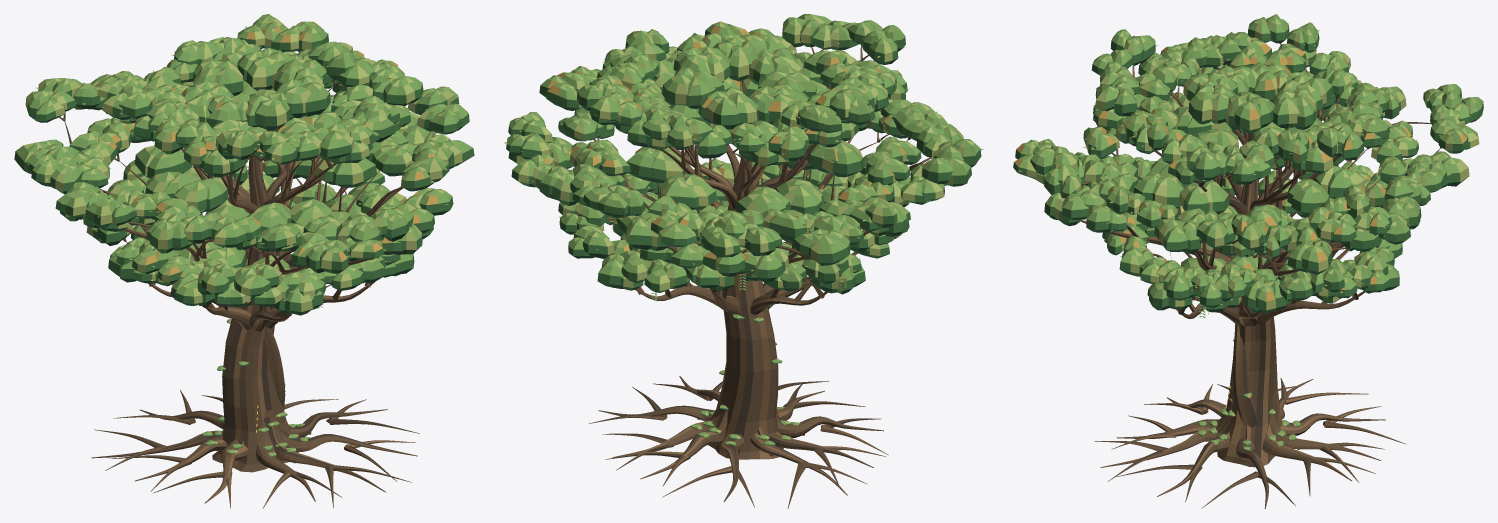
The model's file is Yggdrasil_LOD0.fbx.
3 renders of one model, left to right at view 1: azimuth 30°, elevation 25°; view 2: azimuth 150°, elevation 25°; view 3: azimuth 270°, elevation 25°, orthographic. The views are drawn at different scales.
Visible parts, largest first — view 1: YGG_Foliage_Tier_2_LOD0, YGG_Foliage_Tier_3_LOD0, YGG_Foliage_Tier_1_LOD0, YGG_Foliage_Tier_4_LOD0, YGG_AncientTrunk_LOD0, YGG_CrownBranches_Tier_2_LOD0, YGG_CrownBranches_Tier_3_LOD0, YGG_CrownBranches_Tier_1_LOD0, YGG_Root_09_LOD0, YGG_Root_10_LOD0, YGG_Root_08_LOD0, YGG_Root_01_LOD0 (+6 smaller); view 2: YGG_Foliage_Tier_2_LOD0, YGG_Foliage_Tier_3_LOD0, YGG_Foliage_Tier_1_LOD0, YGG_Foliage_Tier_4_LOD0, YGG_AncientTrunk_LOD0, YGG_CrownBranches_Tier_3_LOD0, YGG_CrownBranches_Tier_1_LOD0, YGG_Root_03_LOD0, YGG_Root_07_LOD0, YGG_CrownBranches_Tier_2_LOD0, YGG_Root_05_LOD0, YGG_Root_06_LOD0 (+5 smaller); view 3: YGG_Foliage_Tier_2_LOD0, YGG_Foliage_Tier_3_LOD0, YGG_Foliage_Tier_1_LOD0, YGG_Foliage_Tier_4_LOD0, YGG_AncientTrunk_LOD0, YGG_CrownBranches_Tier_3_LOD0, YGG_CrownBranches_Tier_2_LOD0, YGG_CrownBranches_Tier_1_LOD0, YGG_IntertwinedLeaders_LOD0, YGG_Root_09_LOD0, YGG_Root_02_LOD0, YGG_Root_04_LOD0 (+7 smaller).
Part boxes in pixels (x1,y1,x2,y2): YGG_Foliage_Tier_2_LOD0: [14, 50, 474, 273]; YGG_Foliage_Tier_3_LOD0: [97, 14, 423, 177]; YGG_Foliage_Tier_1_LOD0: [86, 160, 433, 315]; YGG_Foliage_Tier_4_LOD0: [181, 48, 330, 130]; YGG_AncientTrunk_LOD0: [212, 157, 298, 472]; YGG_CrownBranches_Tier_2_LOD0: [59, 94, 431, 274]; YGG_CrownBranches_Tier_3_LOD0: [181, 79, 385, 214]; YGG_CrownBranches_Tier_1_LOD0: [123, 178, 375, 331]; YGG_Root_09_LOD0: [263, 408, 411, 508]; YGG_Root_10_LOD0: [280, 429, 417, 481]; YGG_Root_08_LOD0: [256, 421, 342, 508]; YGG_Root_01_LOD0: [288, 399, 419, 438]; YGG_Foliage_Tier_2_LOD0: [506, 57, 981, 265]; YGG_Foliage_Tier_3_LOD0: [576, 14, 905, 166]; YGG_Foliage_Tier_1_LOD0: [558, 152, 910, 294]; YGG_Foliage_Tier_4_LOD0: [662, 37, 816, 129]; YGG_AncientTrunk_LOD0: [708, 156, 783, 459]; YGG_CrownBranches_Tier_3_LOD0: [660, 44, 868, 209]; YGG_CrownBranches_Tier_1_LOD0: [607, 218, 859, 314]; YGG_Root_03_LOD0: [605, 409, 727, 486]; YGG_Root_07_LOD0: [777, 416, 888, 455]; YGG_CrownBranches_Tier_2_LOD0: [555, 132, 931, 263]; YGG_Root_05_LOD0: [750, 427, 867, 508]; YGG_Root_06_LOD0: [767, 431, 886, 484]; YGG_Foliage_Tier_2_LOD0: [1013, 42, 1483, 274]; YGG_Foliage_Tier_3_LOD0: [1091, 14, 1389, 184]; YGG_Foliage_Tier_1_LOD0: [1102, 157, 1402, 313]; YGG_Foliage_Tier_4_LOD0: [1183, 62, 1333, 133]; YGG_AncientTrunk_LOD0: [1217, 133, 1282, 467]; YGG_CrownBranches_Tier_3_LOD0: [1132, 43, 1344, 215]; YGG_CrownBranches_Tier_2_LOD0: [1081, 122, 1441, 275]; YGG_CrownBranches_Tier_1_LOD0: [1152, 212, 1365, 326]; YGG_IntertwinedLeaders_LOD0: [1233, 250, 1287, 427]; YGG_Root_09_LOD0: [1094, 398, 1232, 481]; YGG_Root_02_LOD0: [1262, 422, 1375, 495]; YGG_Root_04_LOD0: [1280, 406, 1406, 444].
Size of the model in its own units: 154 by 139 by 156.
